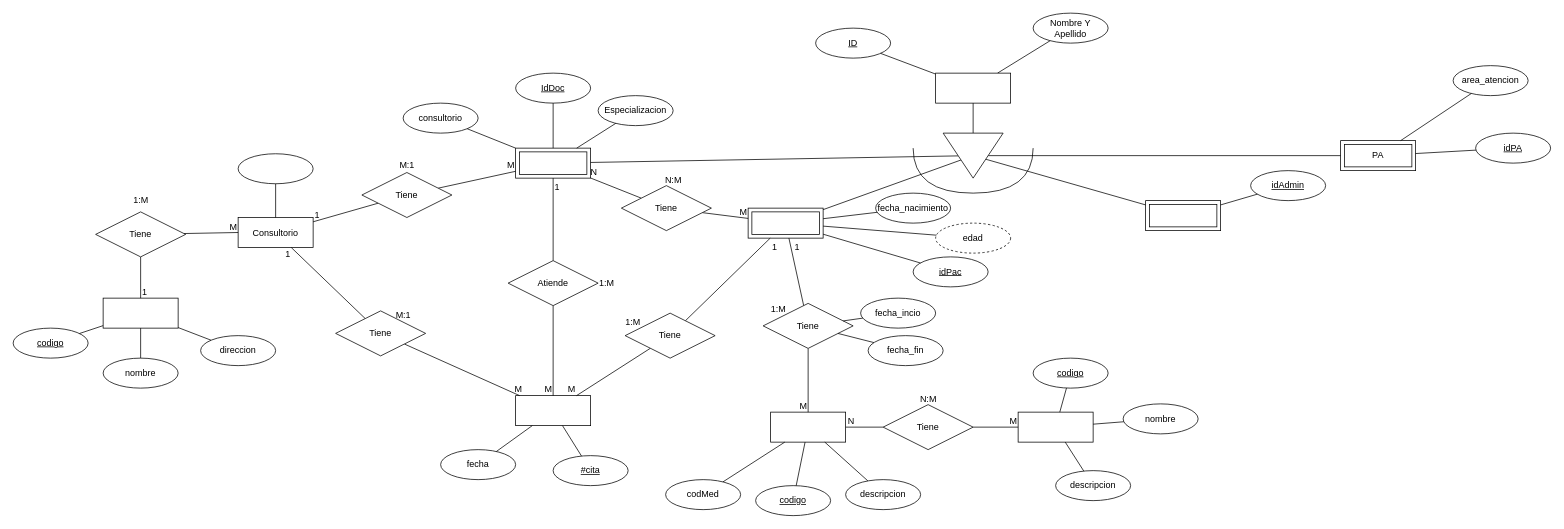
The diagram is 1564 pixels wide and 529 high, and some of its shapes have lost their labels. The centre of each missing label's shape, as x and y in pixels:
"#Hab" belongs at (x=275, y=168).
"Admin" belongs at (x=1183, y=215).
"Cita" belongs at (x=553, y=410).
"Medicamento" belongs at (x=1055, y=426).
"Medico" belongs at (x=553, y=162).
"Paciente" belongs at (x=785, y=222).
"Puede ser" belongs at (x=972, y=155).
"Sede" belongs at (x=140, y=312).
"Tratamiento" belongs at (x=808, y=426).
"Usuario" belongs at (x=973, y=87).
